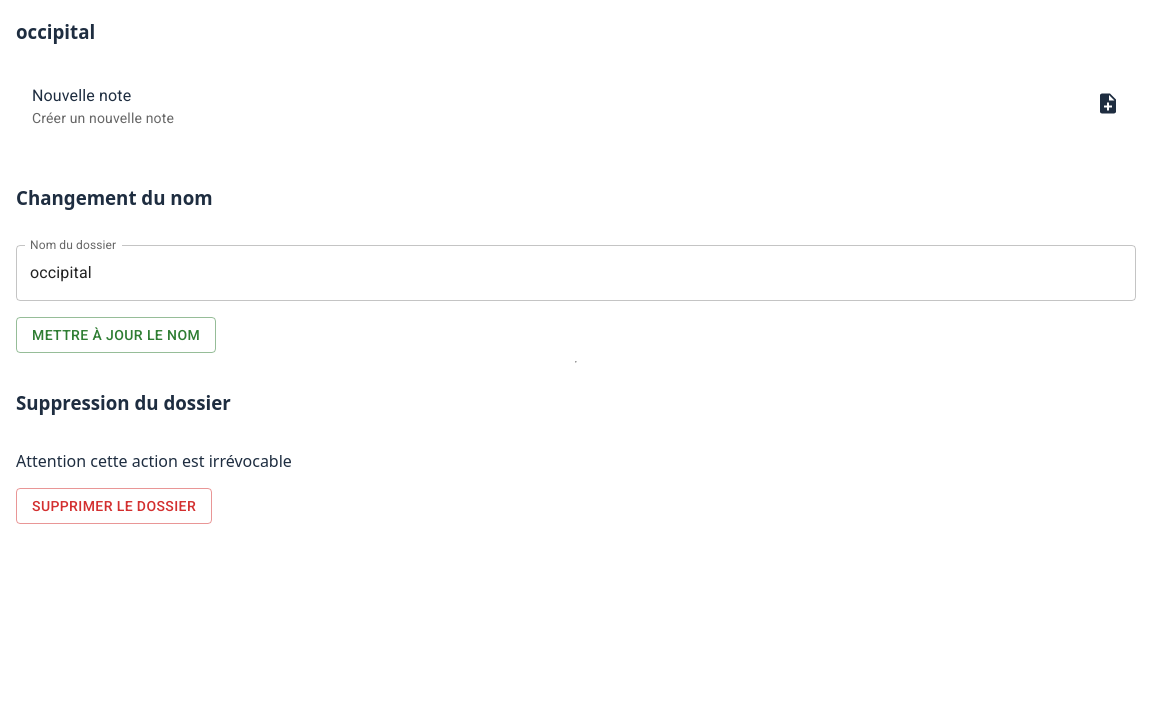
Test: Folder settings - empty name
This screenshot has width=1152, height=720.
Clear the field labelled "Nom du dossier": (576, 273) [16,245,1136,301]
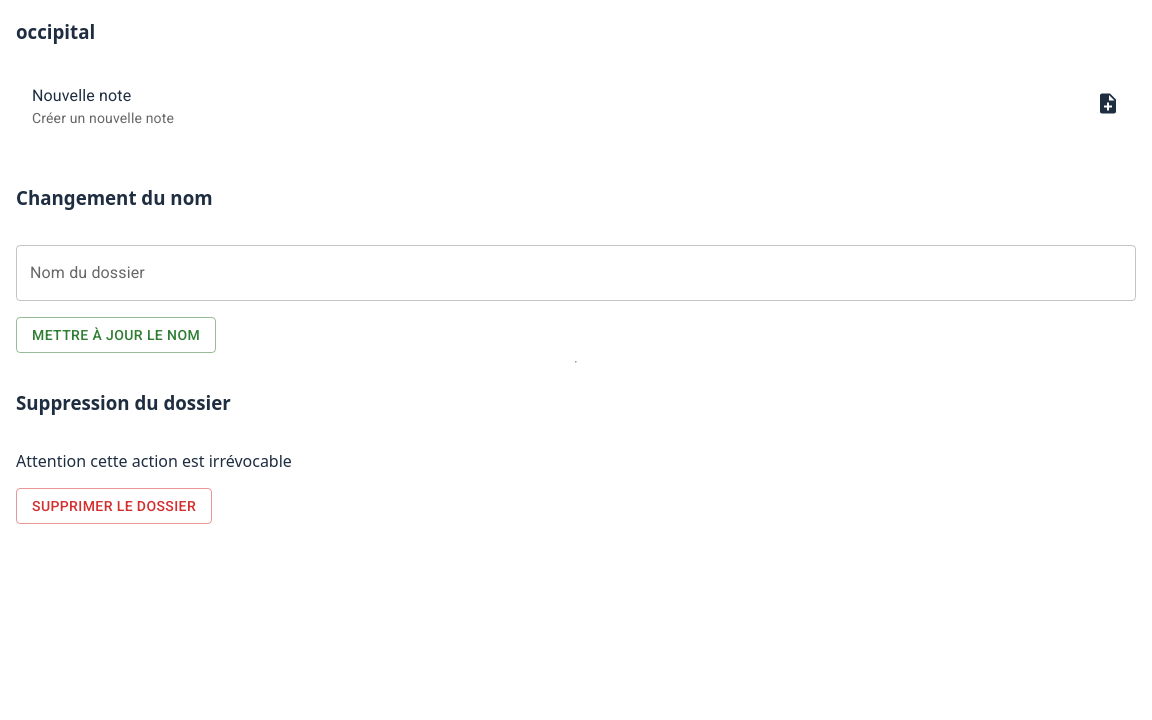
Click the button with test id "folder-setting-name-saveBtn": (116, 335) [16,317,216,353]
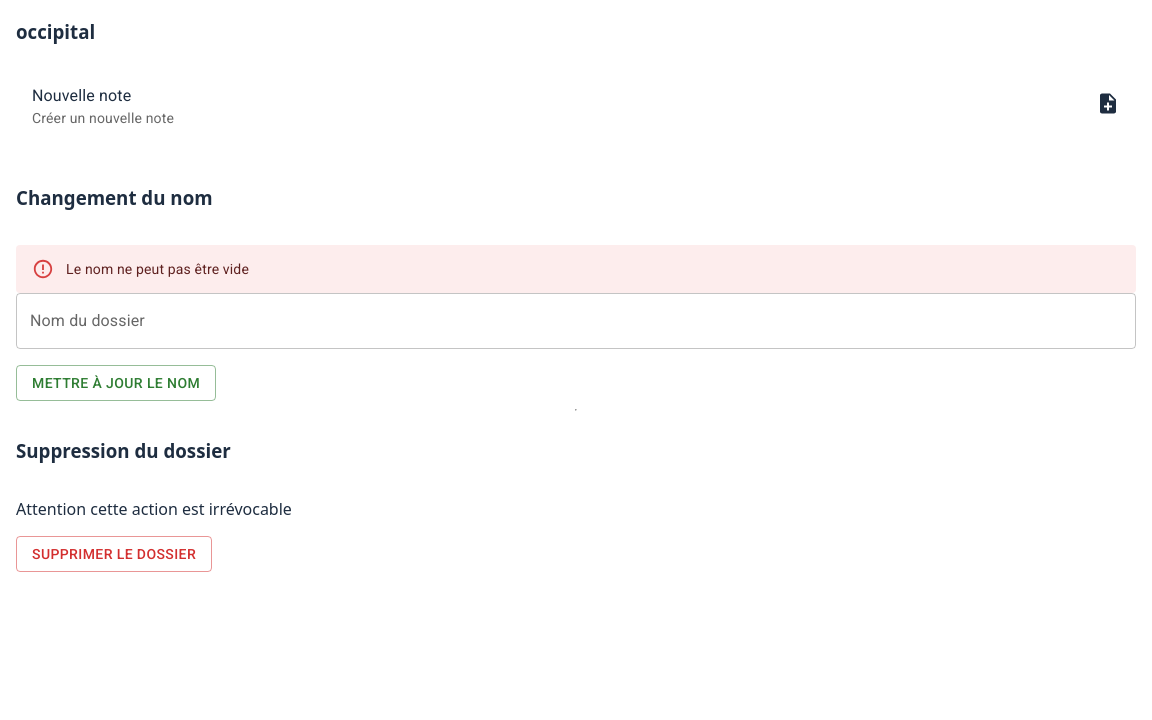
Expected: the text "Le nom ne peut pas être vide" is shown, [66,261,249,277]
